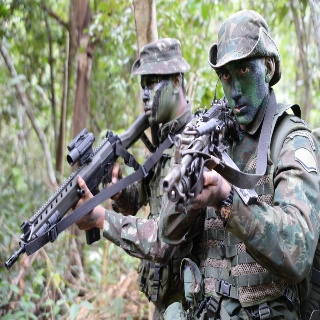rifle: (3, 111, 151, 270), (162, 97, 235, 213)
